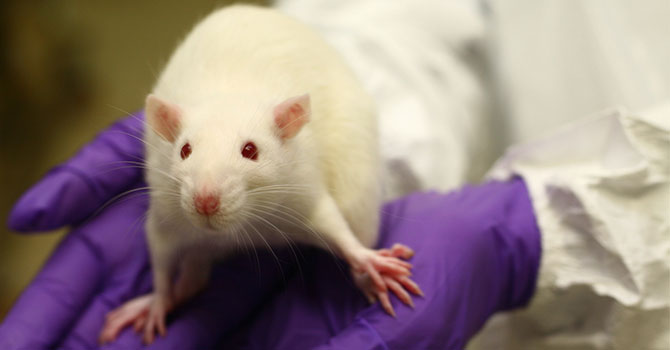rat: (102, 1, 433, 334)
